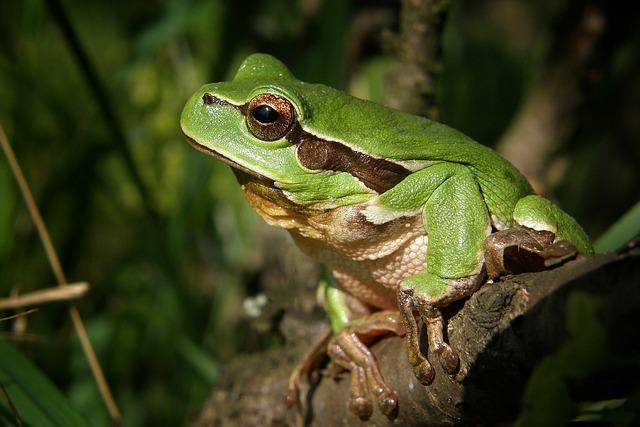Non_Gorille: (93, 12, 583, 358)
